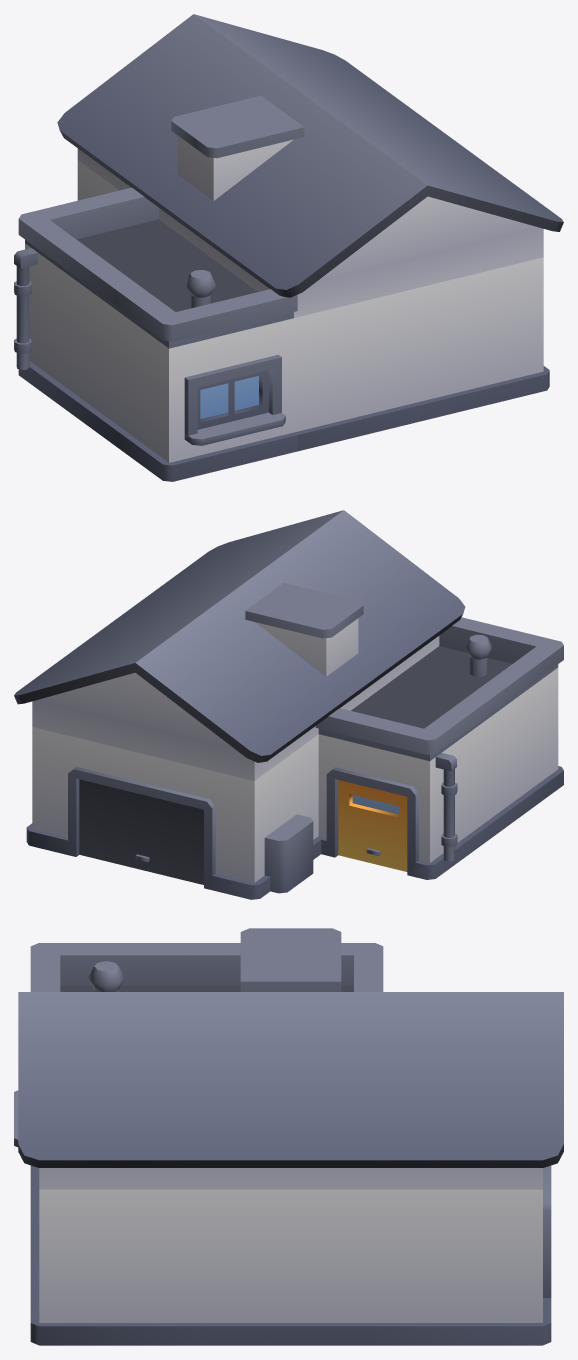
The model's file is building-h_lev1.glb.
The picture shows the model from 3 angles, top to bottom: view 1: azimuth 30°, elevation 25°; view 2: azimuth 150°, elevation 25°; view 3: azimuth 270°, elevation 25°; orthographic projection. The views are drawn at different scales.
Parts seen in each view (by area): view 1: building-h_lev1; view 2: building-h_lev1; view 3: building-h_lev1.
Boxes of the visible parts, <box> form: building-h_lev1: <box>14,14,563,481</box>; building-h_lev1: <box>14,510,563,899</box>; building-h_lev1: <box>14,928,563,1345</box>.
Size of the model in its own units: 6.71 by 3.72 by 6.65.
Materials: 1 (1 with a texture image).
